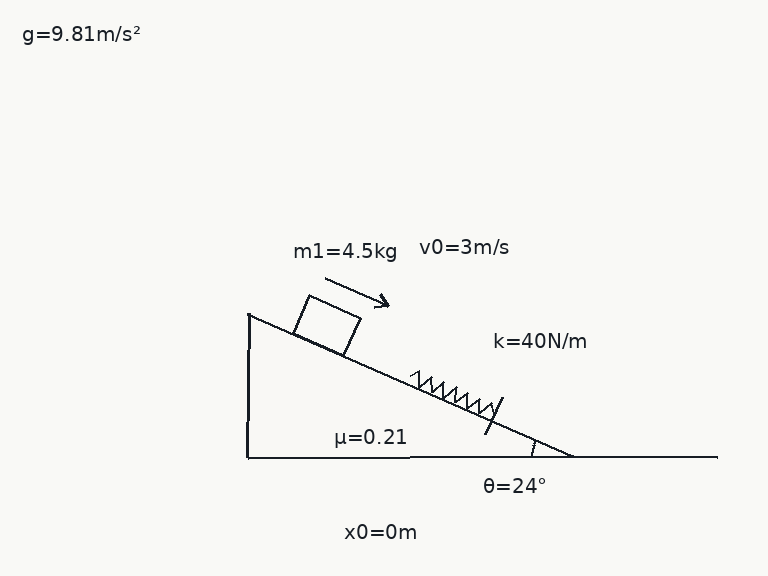block: (291, 293, 362, 357)
ramp: (246, 311, 574, 459)
spring: (408, 369, 497, 416)
